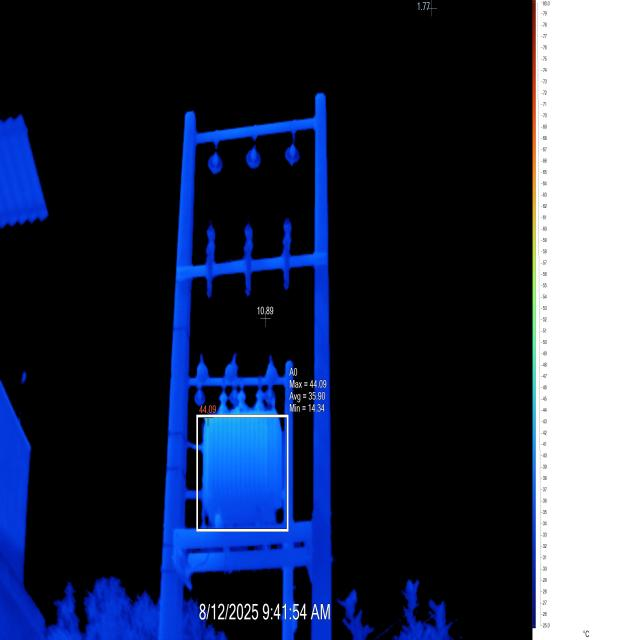Transformer: (159, 94, 333, 640)
